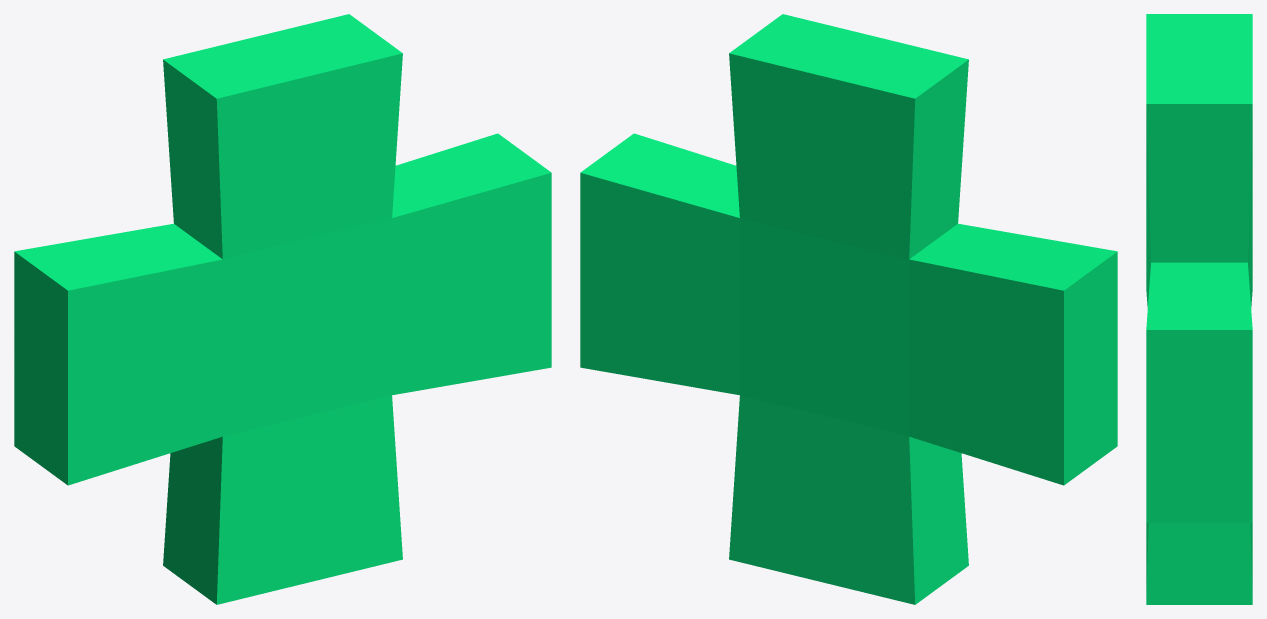
The model's file is HealthbarPickUp.fbx.
3 renders of one model, left to right at view 1: azimuth 30°, elevation 25°; view 2: azimuth 150°, elevation 25°; view 3: azimuth 270°, elevation 25°, orthographic.
Parts seen in each view (by area): view 1: HP; view 2: HP; view 3: HP.
Boxes of the visible parts, x1,y1,x2,y2 form: HP: (14, 14, 551, 604); HP: (580, 14, 1117, 604); HP: (1146, 14, 1252, 604).
Size of the model in its own units: 40 by 40 by 7.7.
